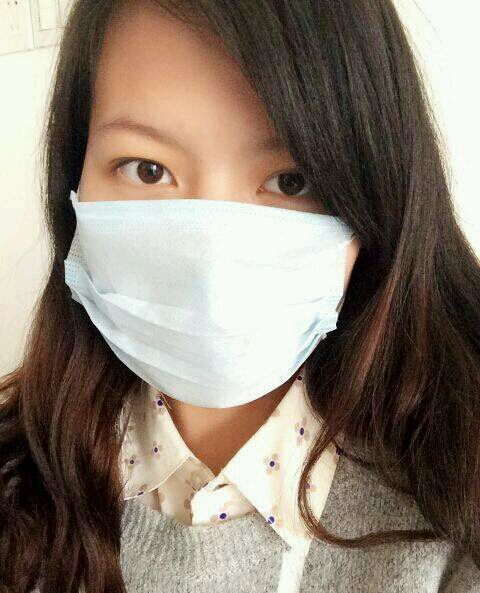face_mask: (78, 14, 357, 408)
